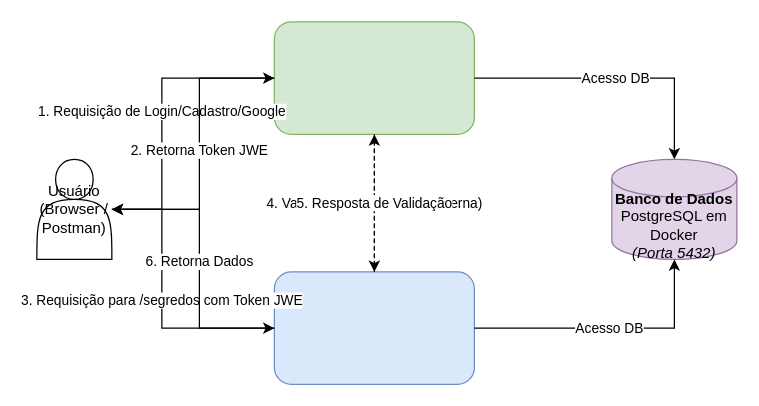
The diagram is 759 pixels wide and 406 high, and some of its shapes have lost their labels. The shapes that lost their labels are listed below. From the top down, each one's centre as x and y in pixels, then its label:
At point 373,77: "Serviço de Autenticação Fastify - Porta 3001 (Gerenciador de Identidade)".
At point 373,327: "Serviço de Segredos Fastify - Porta 3000 (Lógica de Negócio)".
